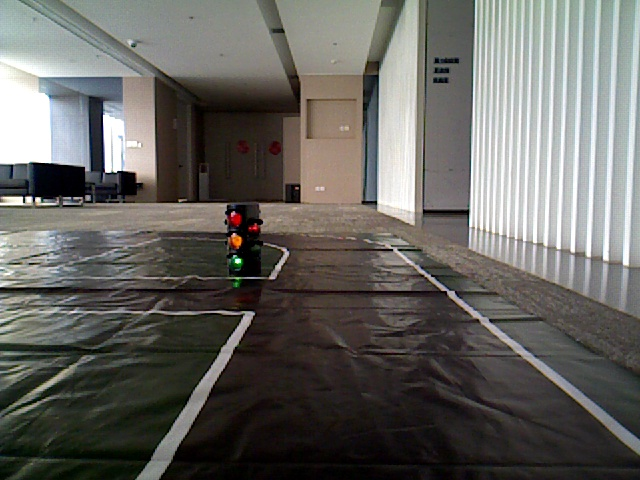green: (226, 204, 247, 265)
